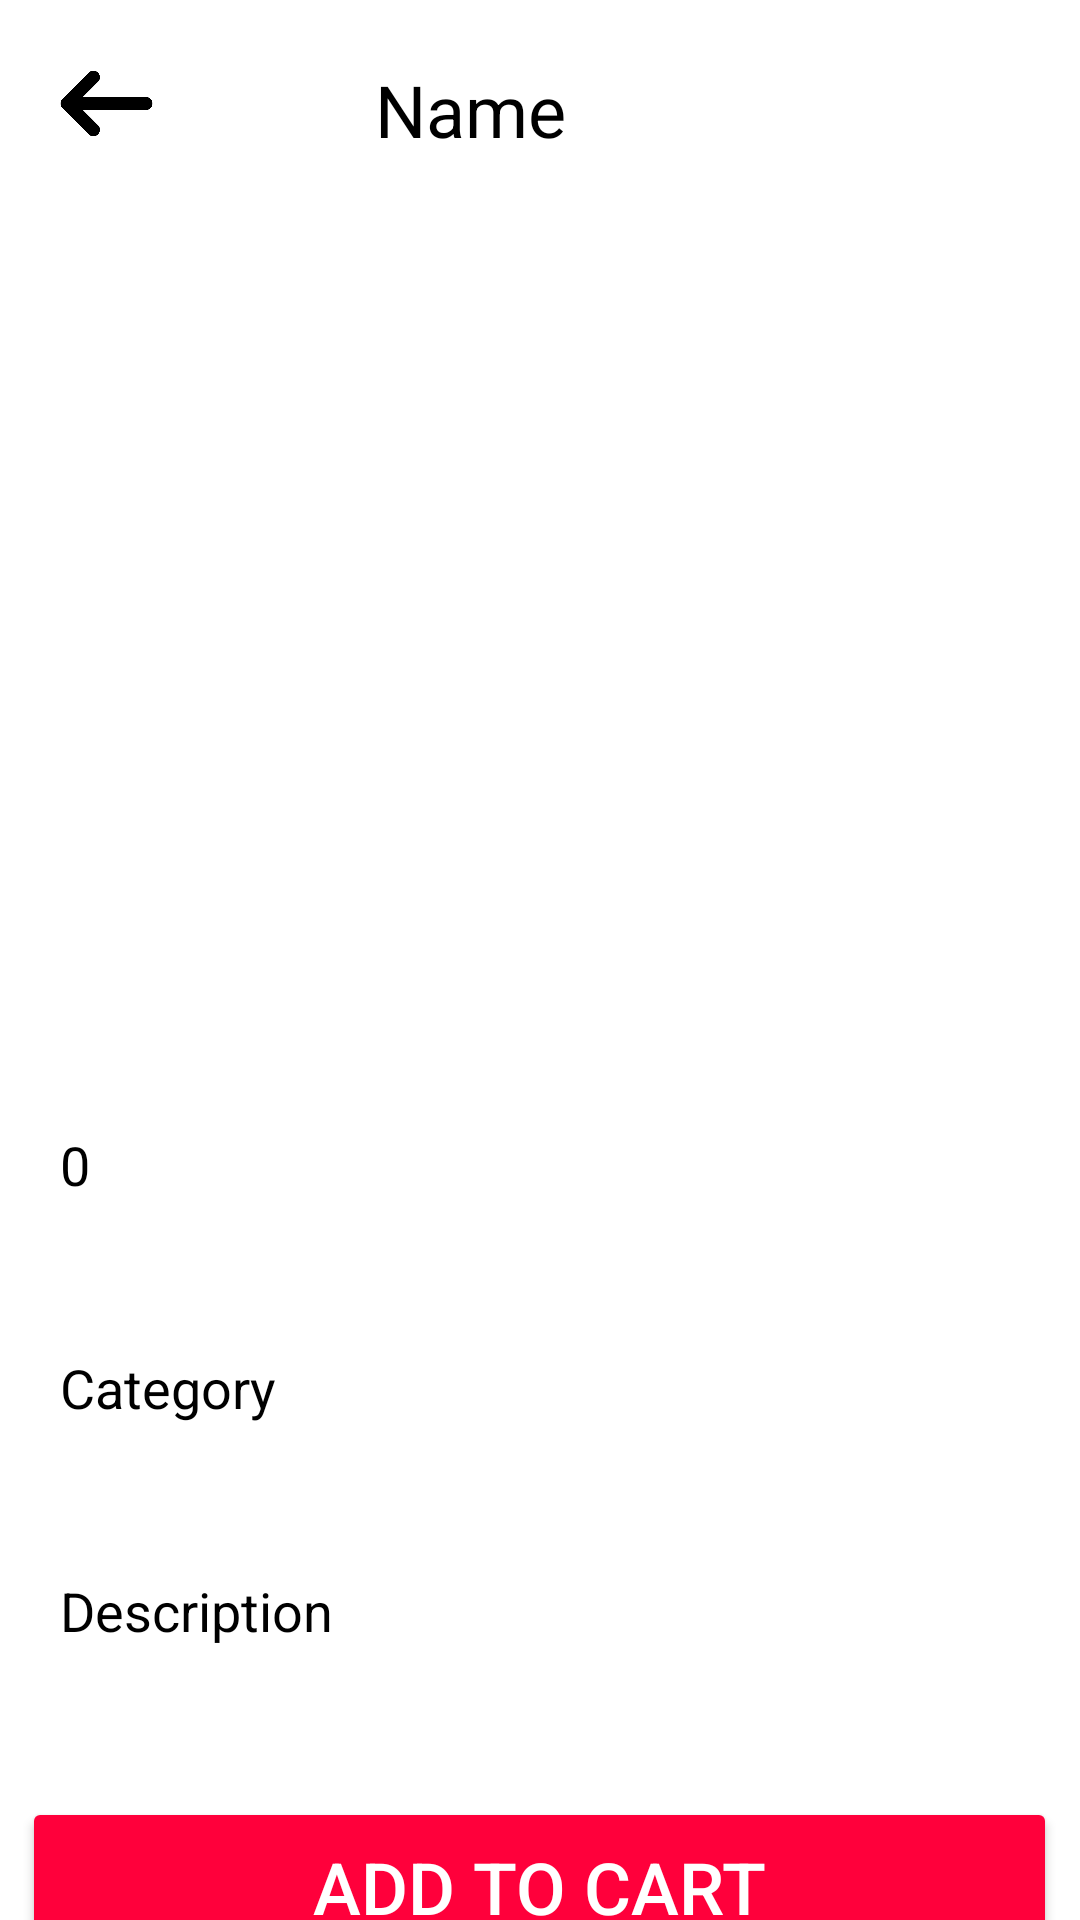

Icon bounding boxes for this 1080×1920 phone screenshot, format (x1, y1, x2, y2):
back arrow: (60, 71, 153, 136)
